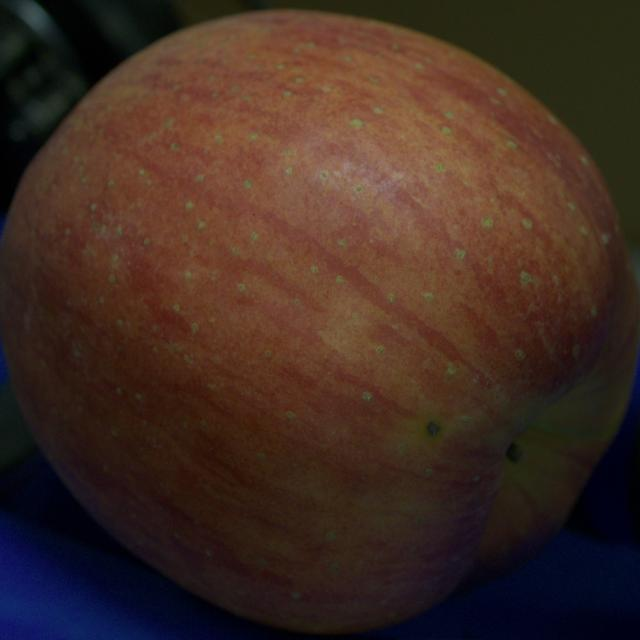apple: (0, 12, 639, 634)
pest: (427, 421, 439, 436)
